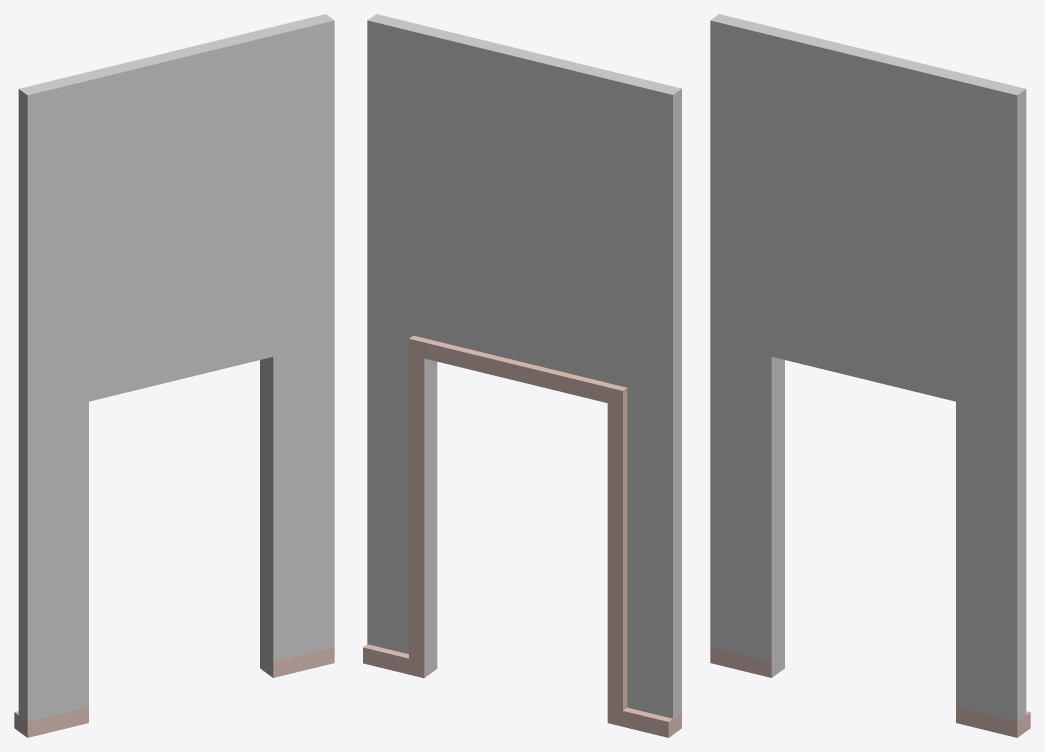
Rendered from Wall 3 Door.fbx.
3 renders of one model, left to right at view 1: azimuth 30°, elevation 25°; view 2: azimuth 150°, elevation 25°; view 3: azimuth 330°, elevation 25°, orthographic.
Visible parts, largest first — view 1: Cube.002; view 2: Cube.002; view 3: Cube.002.
Boxes of the visible parts, x1,y1,x2,y2 form: Cube.002: [14, 14, 334, 737]; Cube.002: [363, 14, 681, 737]; Cube.002: [710, 14, 1030, 737].
Size of the model in its own units: 200 by 400 by 15.
